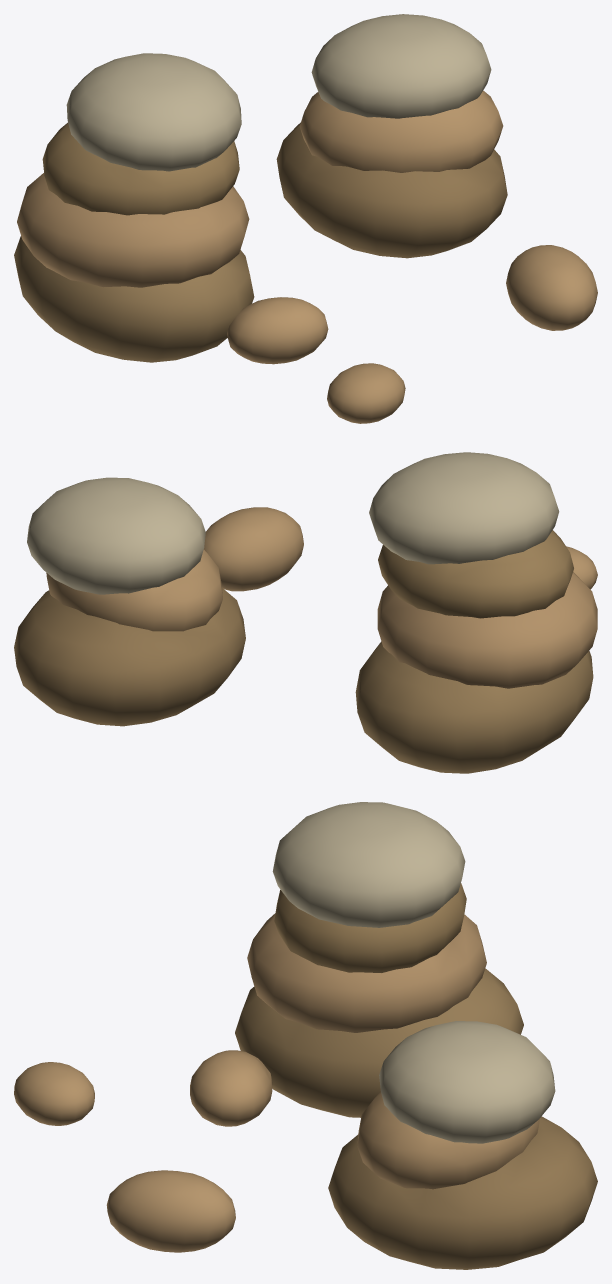
Rendered from weaver_cairn_b.glb.
The picture shows the model from 3 angles, top to bottom: view 1: azimuth 30°, elevation 25°; view 2: azimuth 150°, elevation 25°; view 3: azimuth 270°, elevation 25°; orthographic projection. The views are drawn at different scales.
Visible parts, largest first — view 1: Surface; view 2: Surface; view 3: Surface.
Boxes of the visible parts, x1,y1,x2,y2 form: Surface: (14, 14, 597, 423); Surface: (14, 452, 597, 773); Surface: (14, 802, 597, 1269).
Size of the model in its own units: 1.32 by 0.6958 by 1.27.
